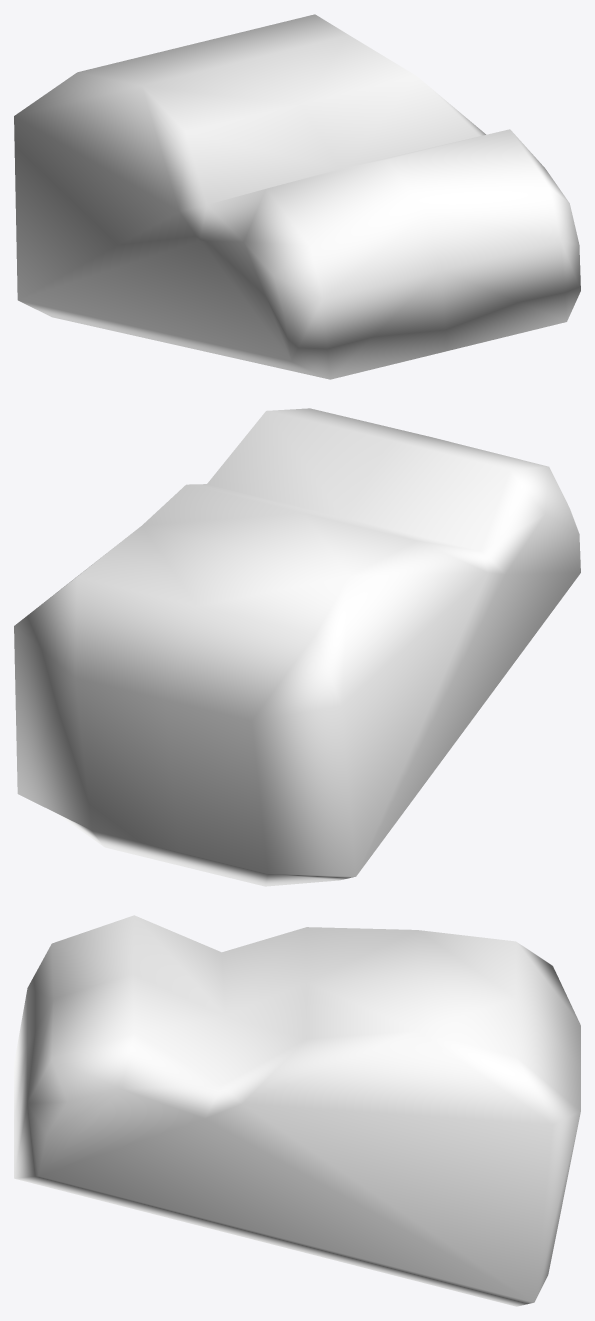
File: thumbj2_left.obj
The picture shows the model from 3 angles, top to bottom: view 1: azimuth 30°, elevation 25°; view 2: azimuth 150°, elevation 25°; view 3: azimuth 270°, elevation 25°; orthographic projection.
Size of the model in its own units: 0.0256 by 0.0201 by 0.0374.
1 material, 1 textured.
